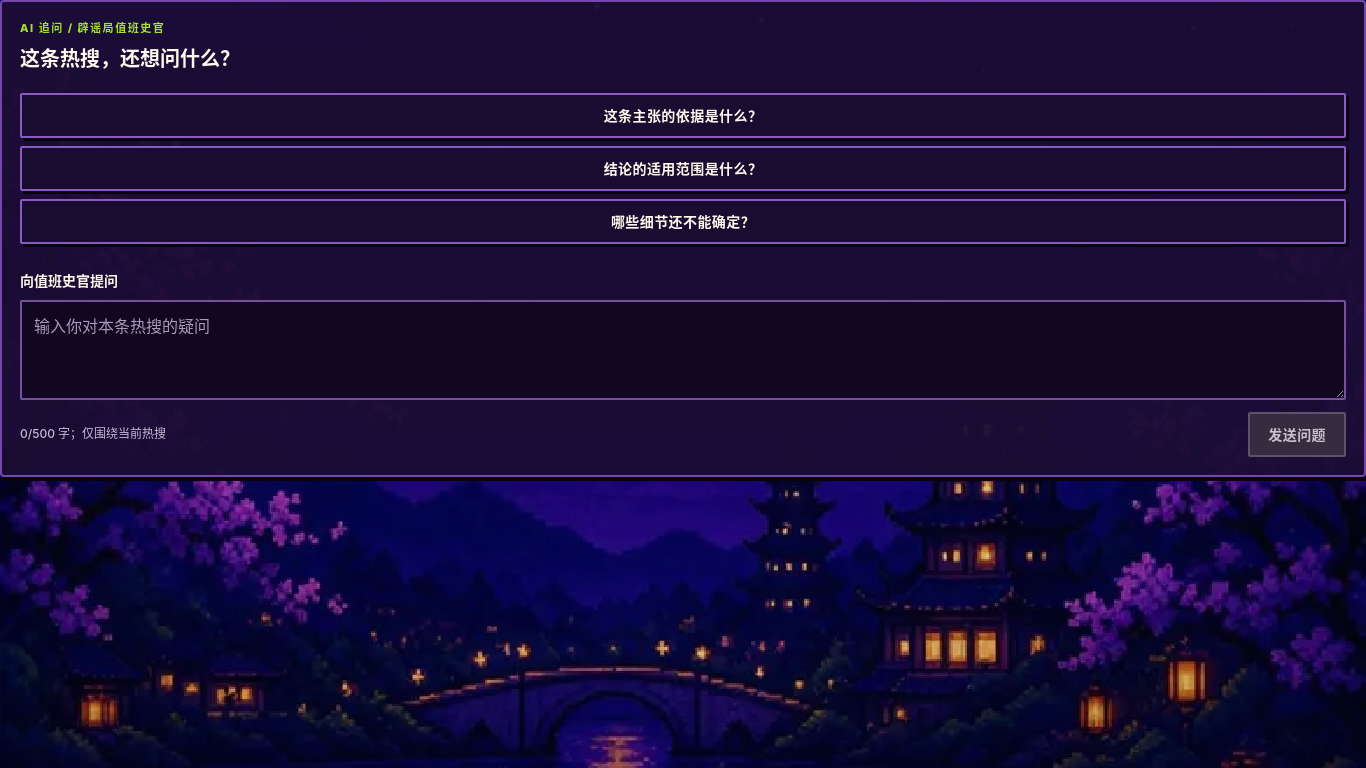
AskPanel › preview 中题目 pending、来源 reviewed 时仍提示资料待审核
Type "测试追问" into the text box labelled "向值班史官提问" at (683, 350), box 20,300 -> 1346,400
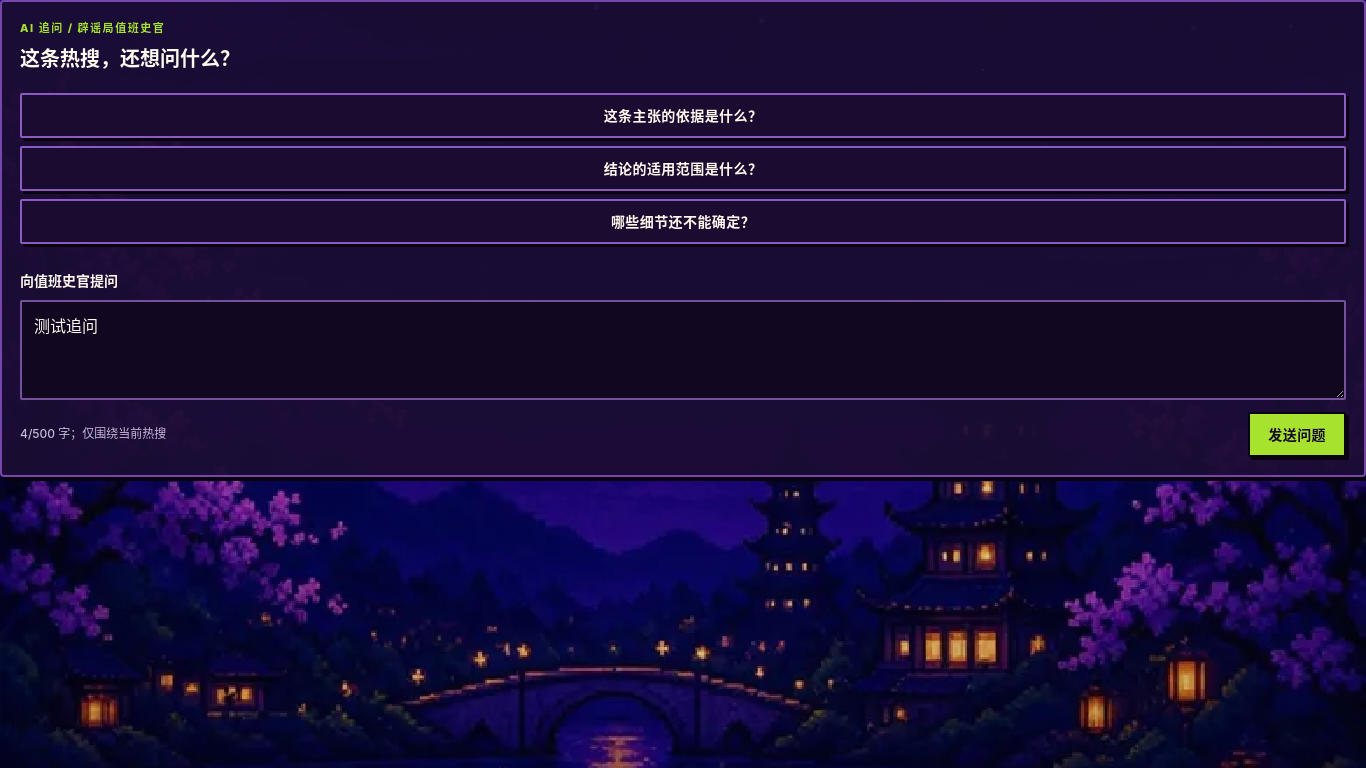
Click the button "发送问题" at (1297, 434), box 1248,412 -> 1346,456
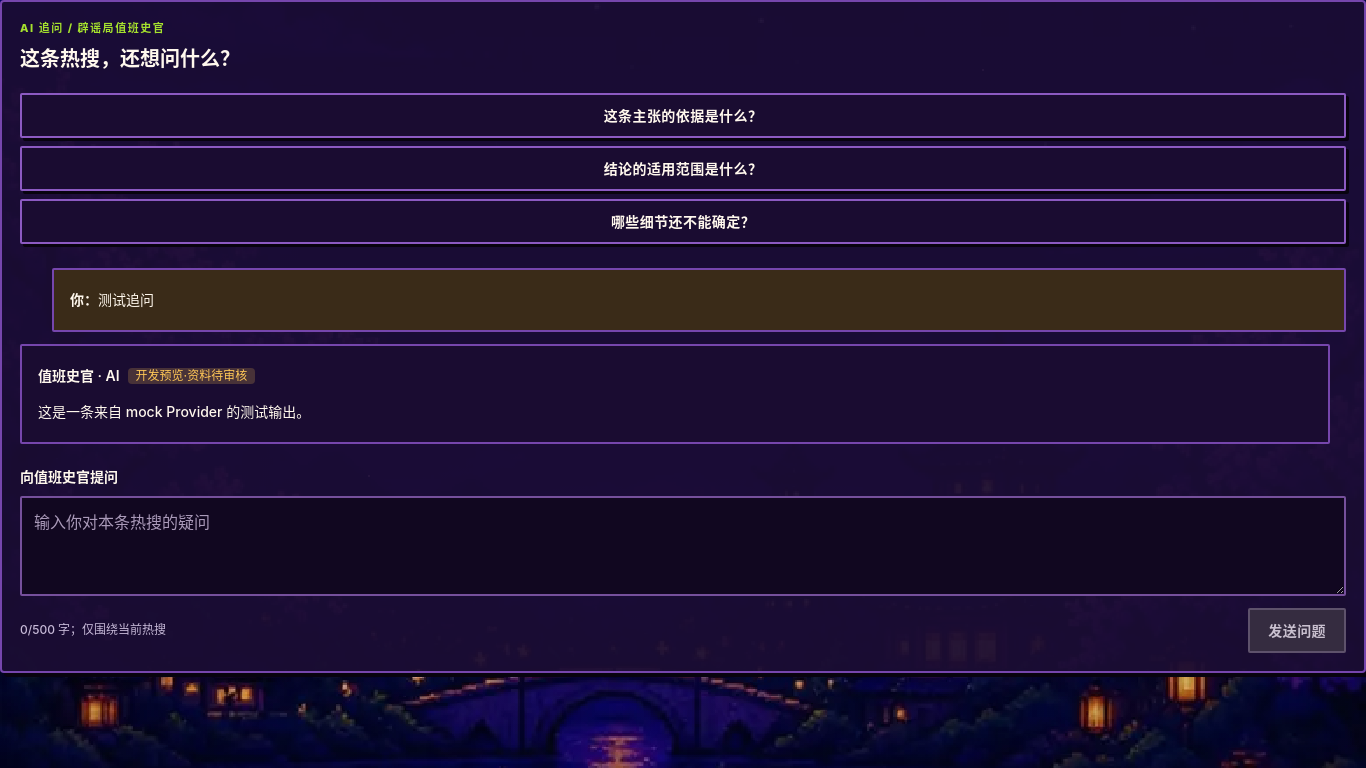
Expected: the text "这是一条来自 mock Provider 的测试输出。" is shown, 38,402 -> 310,420
Expected: the text "开发预览·资料待审核" is shown, 128,368 -> 255,384
